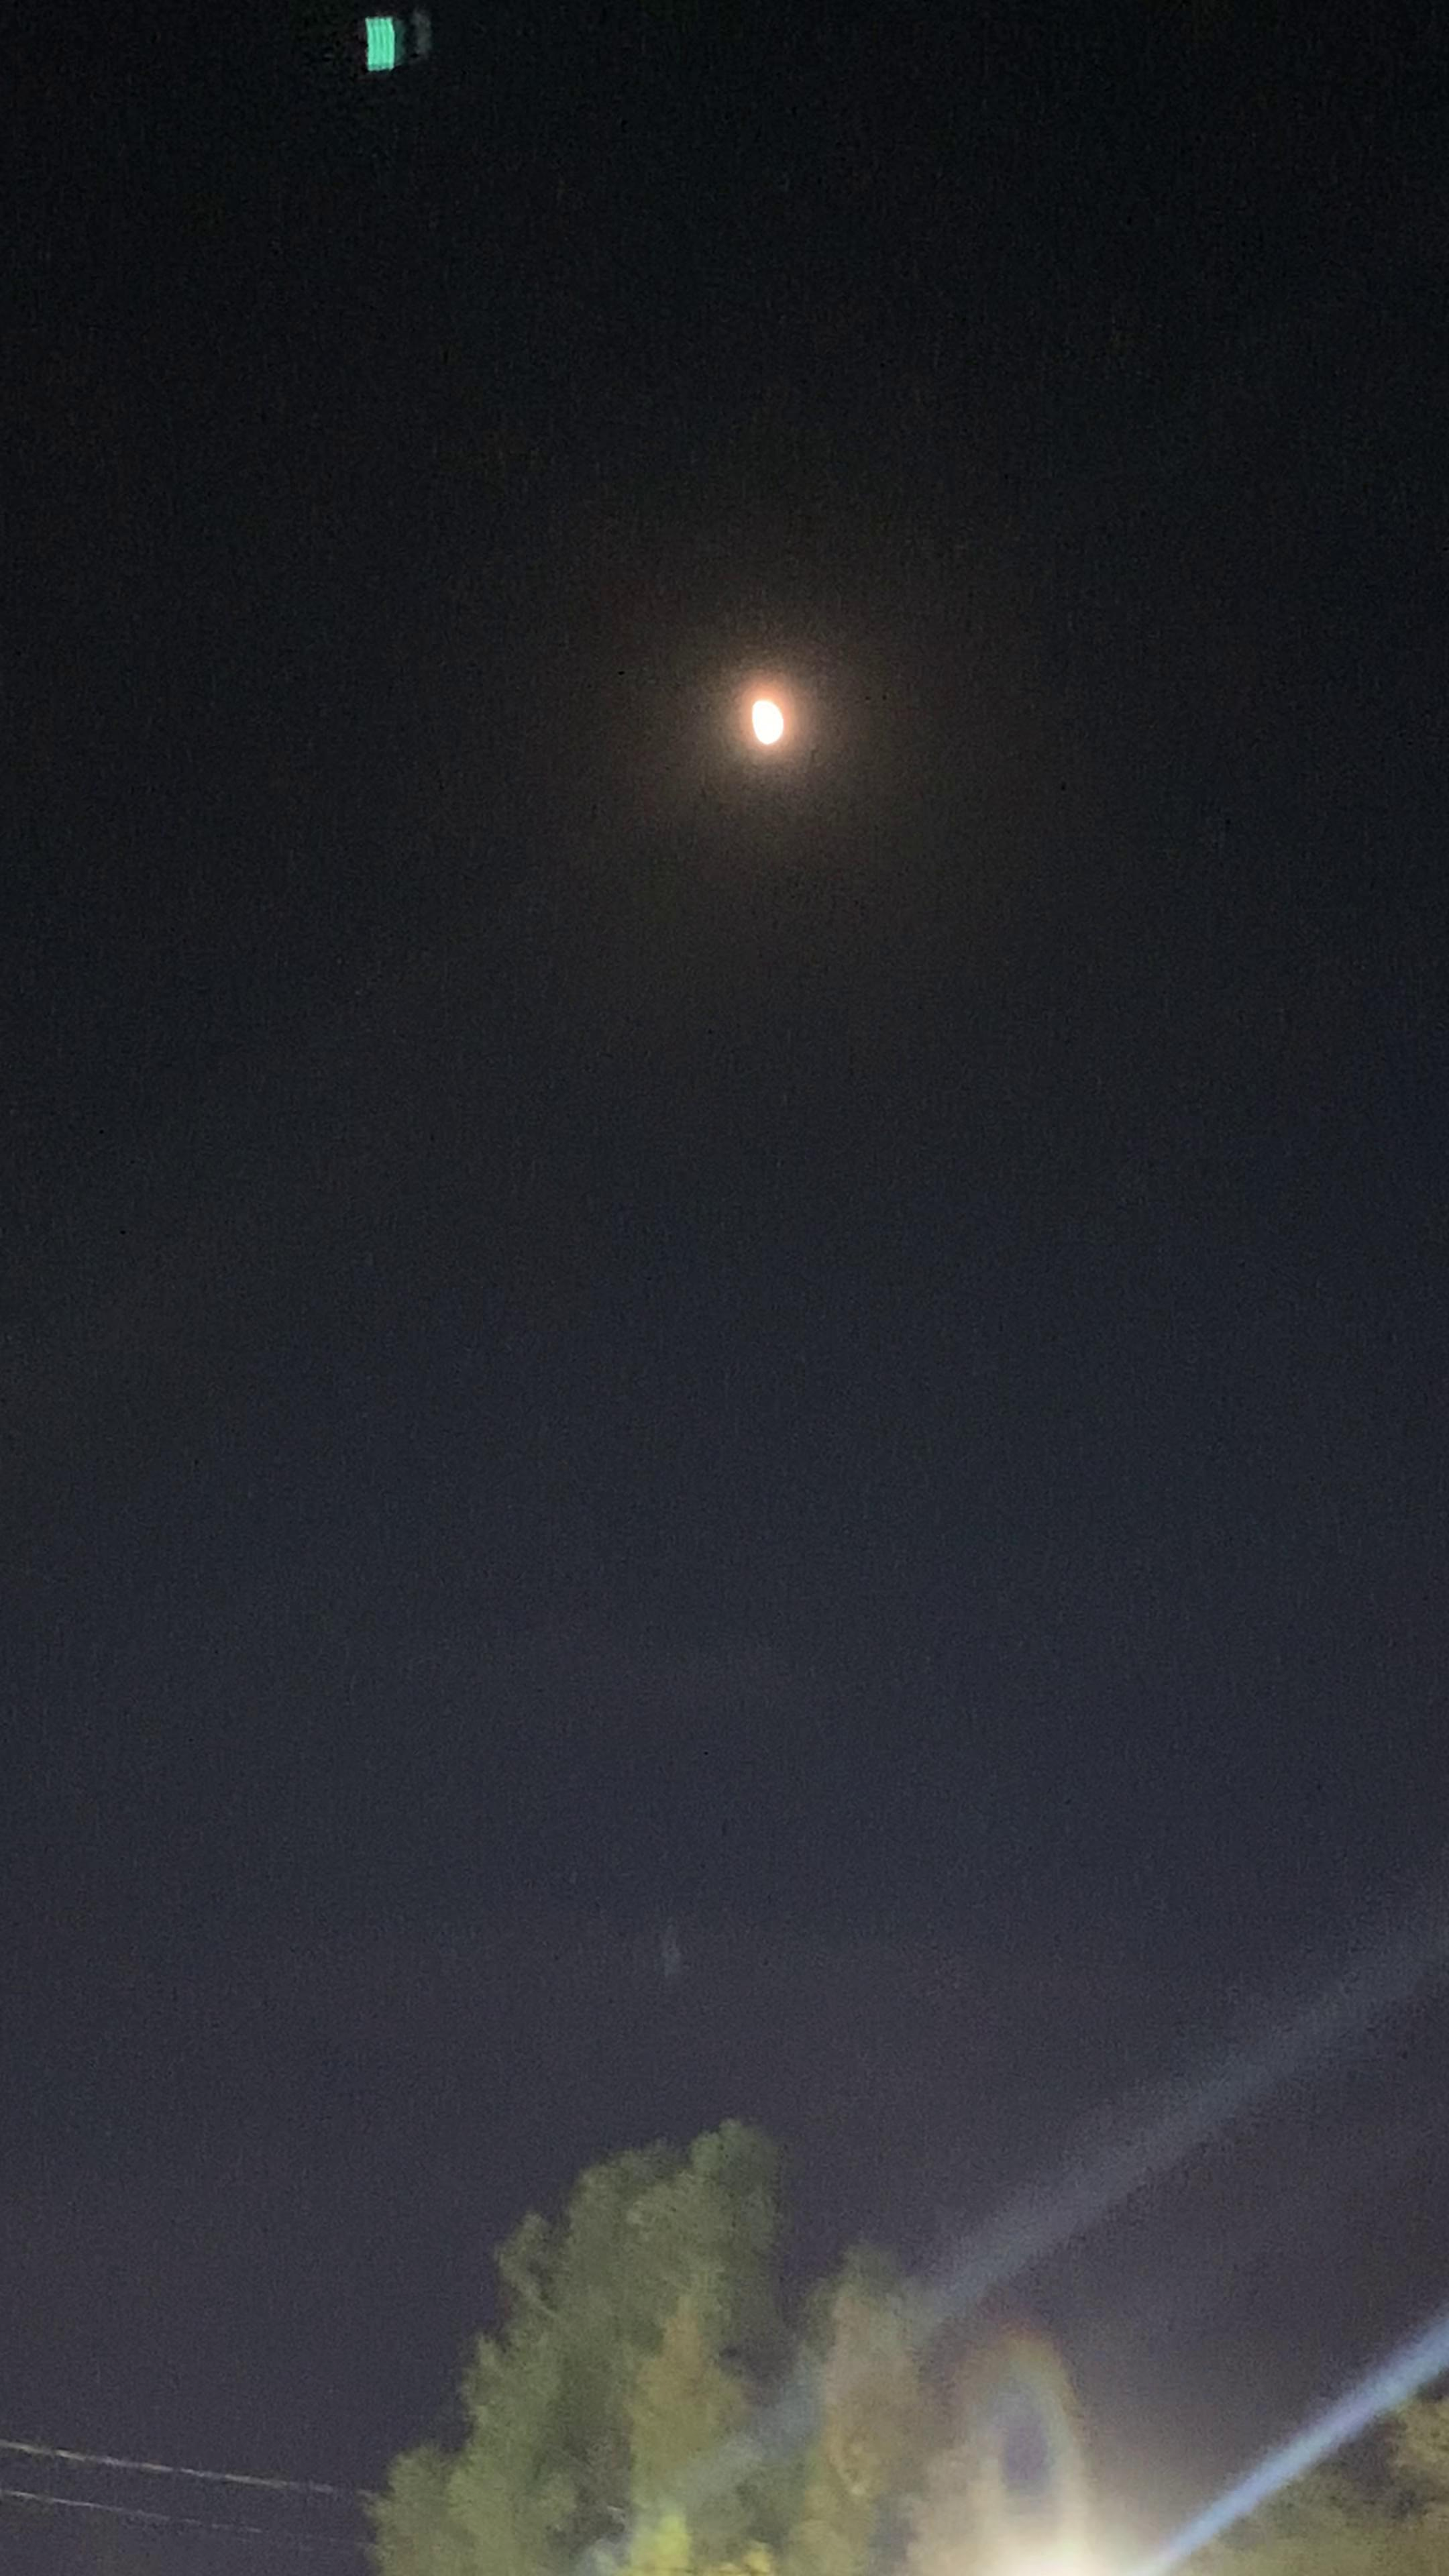moon: (692, 658, 853, 803)
